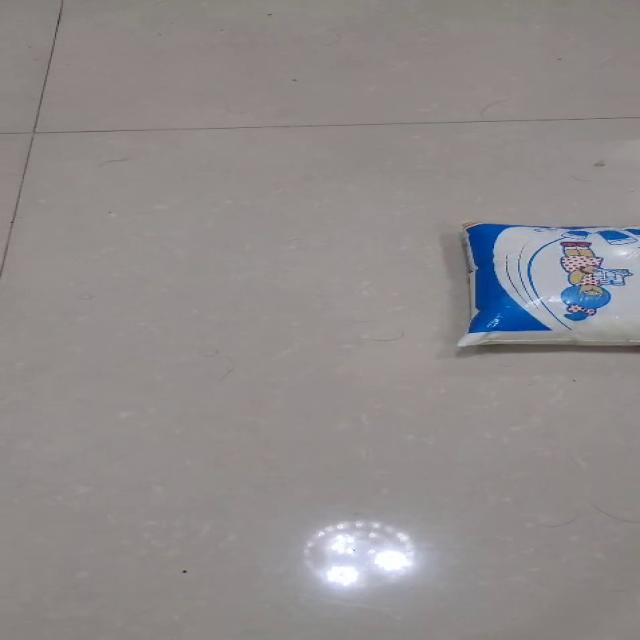plastic: (455, 220, 639, 348)
